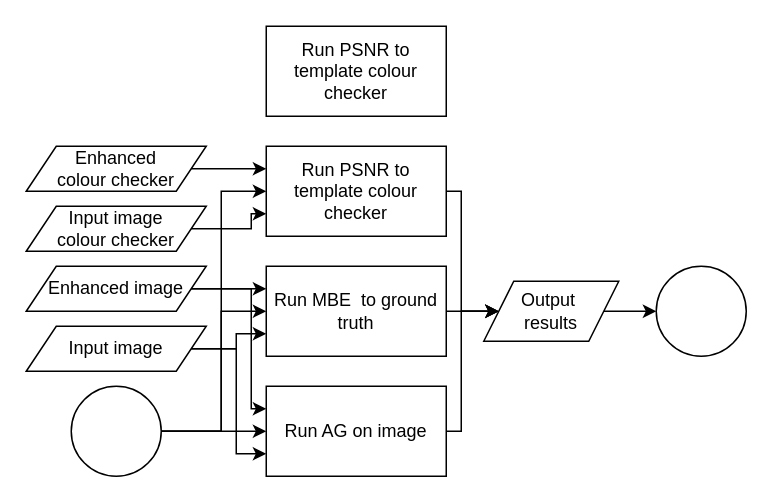
Image size: 773x503. Some labels were removed from this diagram. Here are the shapes that lost their labels. From the top down, the centre of each, then its label:
At (x=700, y=310): "Stop".
At (x=115, y=430): "Start".
